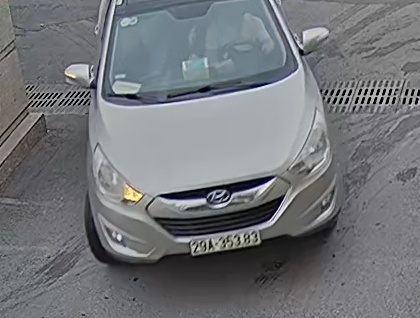vehicle plate: (185, 228, 259, 254)
